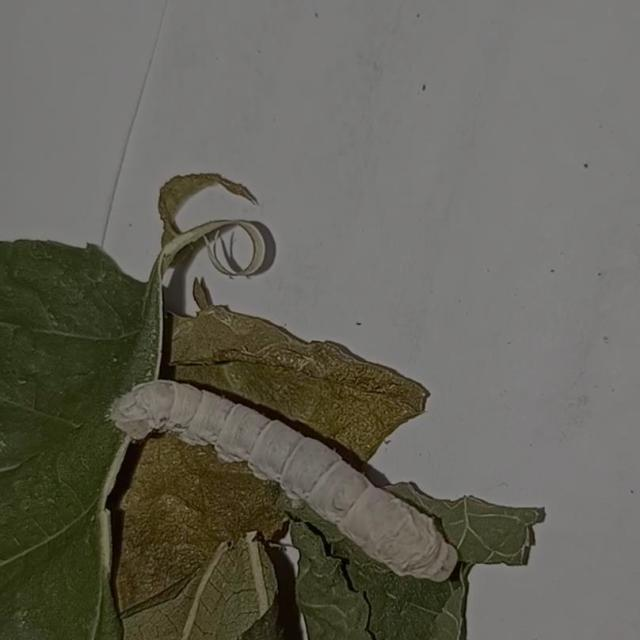Healthy: (95, 362, 466, 591)
